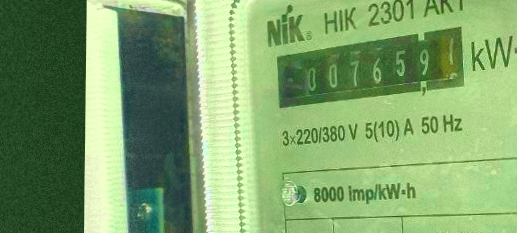0: (304, 63, 318, 91), (325, 61, 339, 88)
1: (444, 35, 456, 66)
5: (391, 47, 407, 79)
6: (369, 53, 383, 85)
7: (346, 55, 361, 87)
9: (415, 44, 431, 78)
screen: (261, 17, 483, 115)
